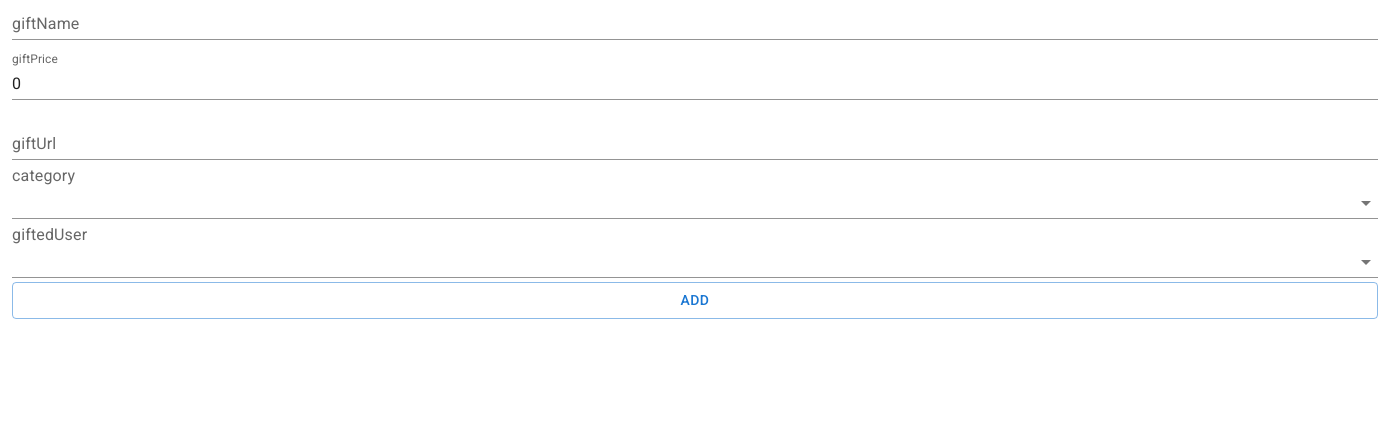
GiftForm tests › should show validation messages when clicked add button
Click the button "add".
click(695, 300)  # box left=12, top=282, right=1378, bottom=318
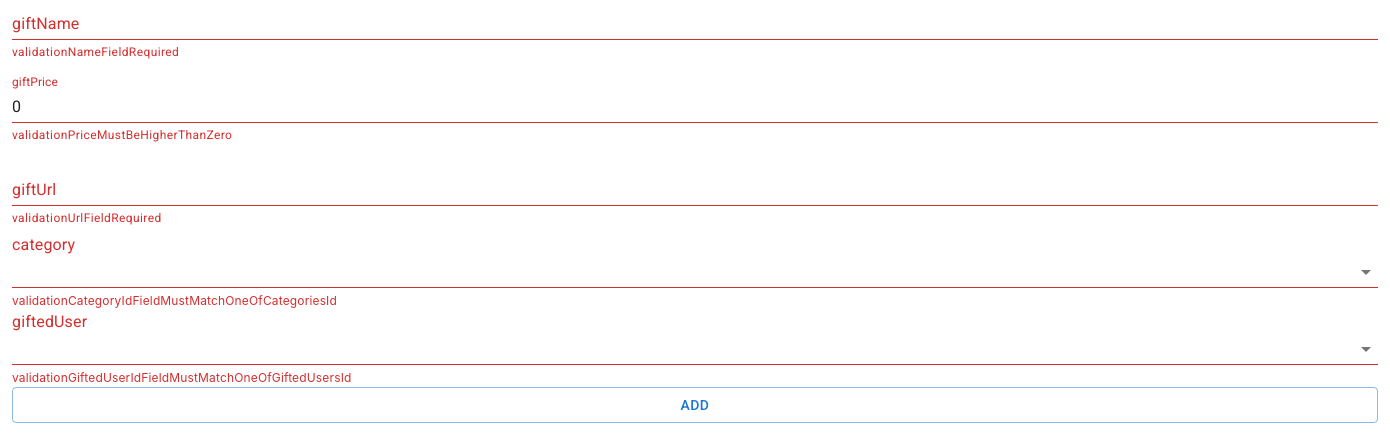
Expected: the text "validationNameFieldRequired" is shown, left=12, top=45, right=179, bottom=59
Expected: the text "validationPriceMustBeHigherThanZero" is shown, left=12, top=128, right=232, bottom=142
Expected: the text "validationUrlFieldRequired" is shown, left=12, top=211, right=162, bottom=225
